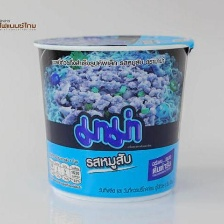paper_cup: (27, 30, 198, 207)
